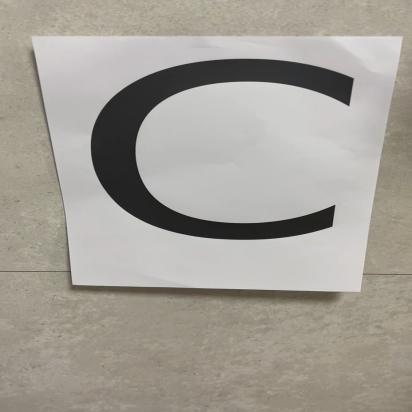seat: (11, 40, 366, 296), (46, 41, 290, 193)
